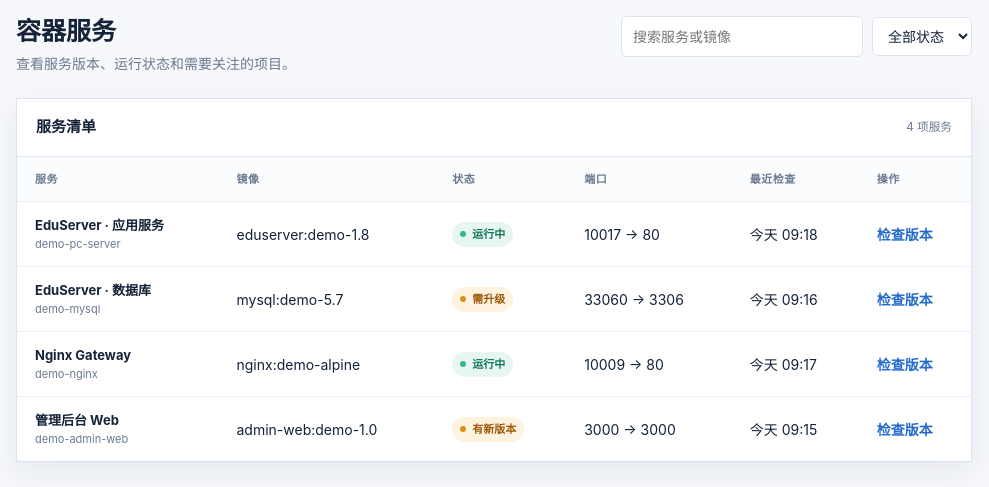
Test: services and audit filters › filters services by warning state
Select "需关注" in the dropdown named "筛选服务状态" at (922, 36), box [872,17,972,56]
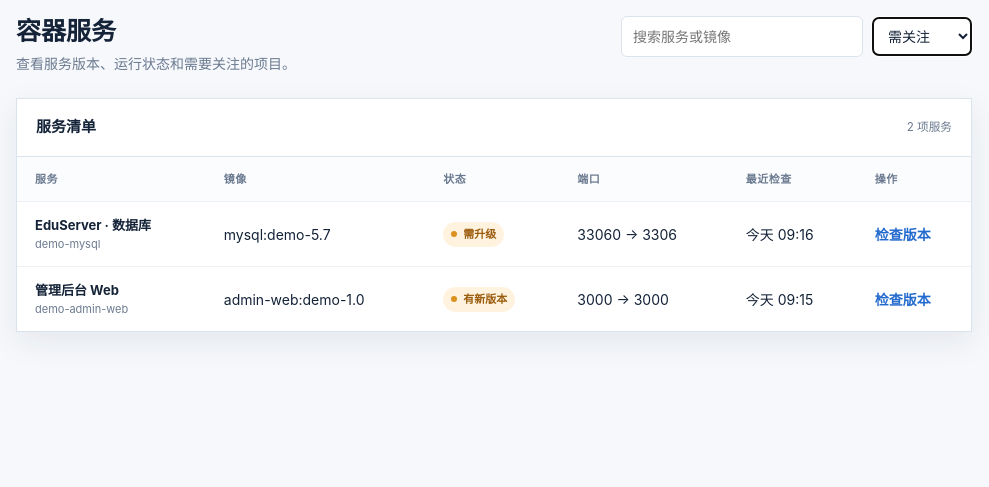
Expected: the text "EduServer · 数据库" is shown, [35,217,151,233]
Expected: the number of rows is 3, [17,156,971,202]; [17,202,971,266]; [17,266,971,331]
Expected: the text "Nginx Gateway" is gone
